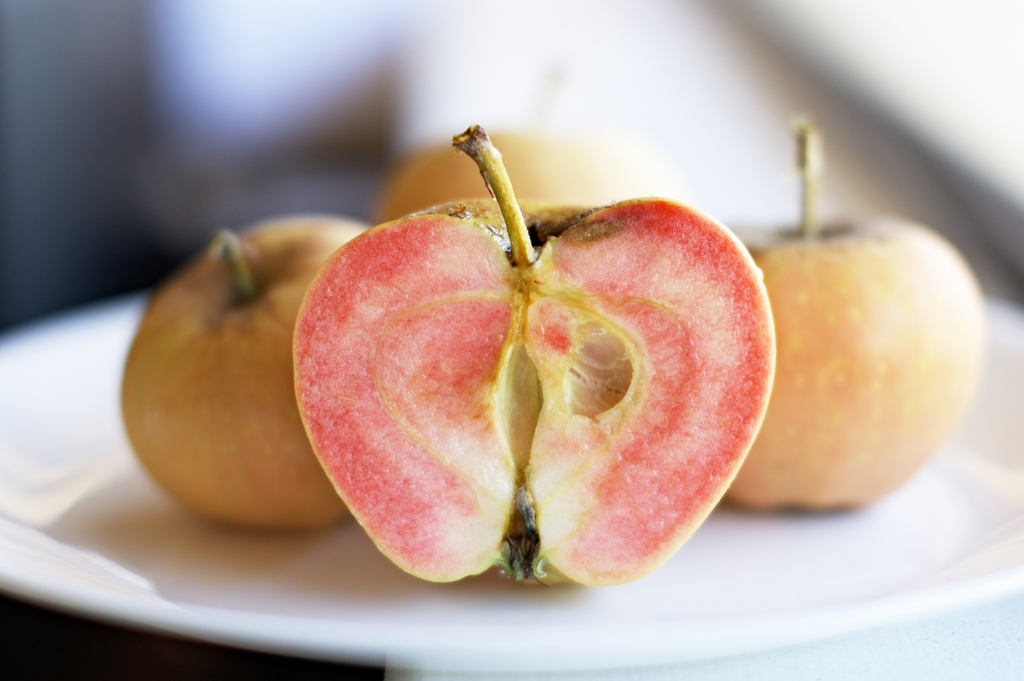Apple: (313, 145, 769, 591), (723, 120, 987, 508), (119, 210, 373, 534), (373, 122, 689, 220)
